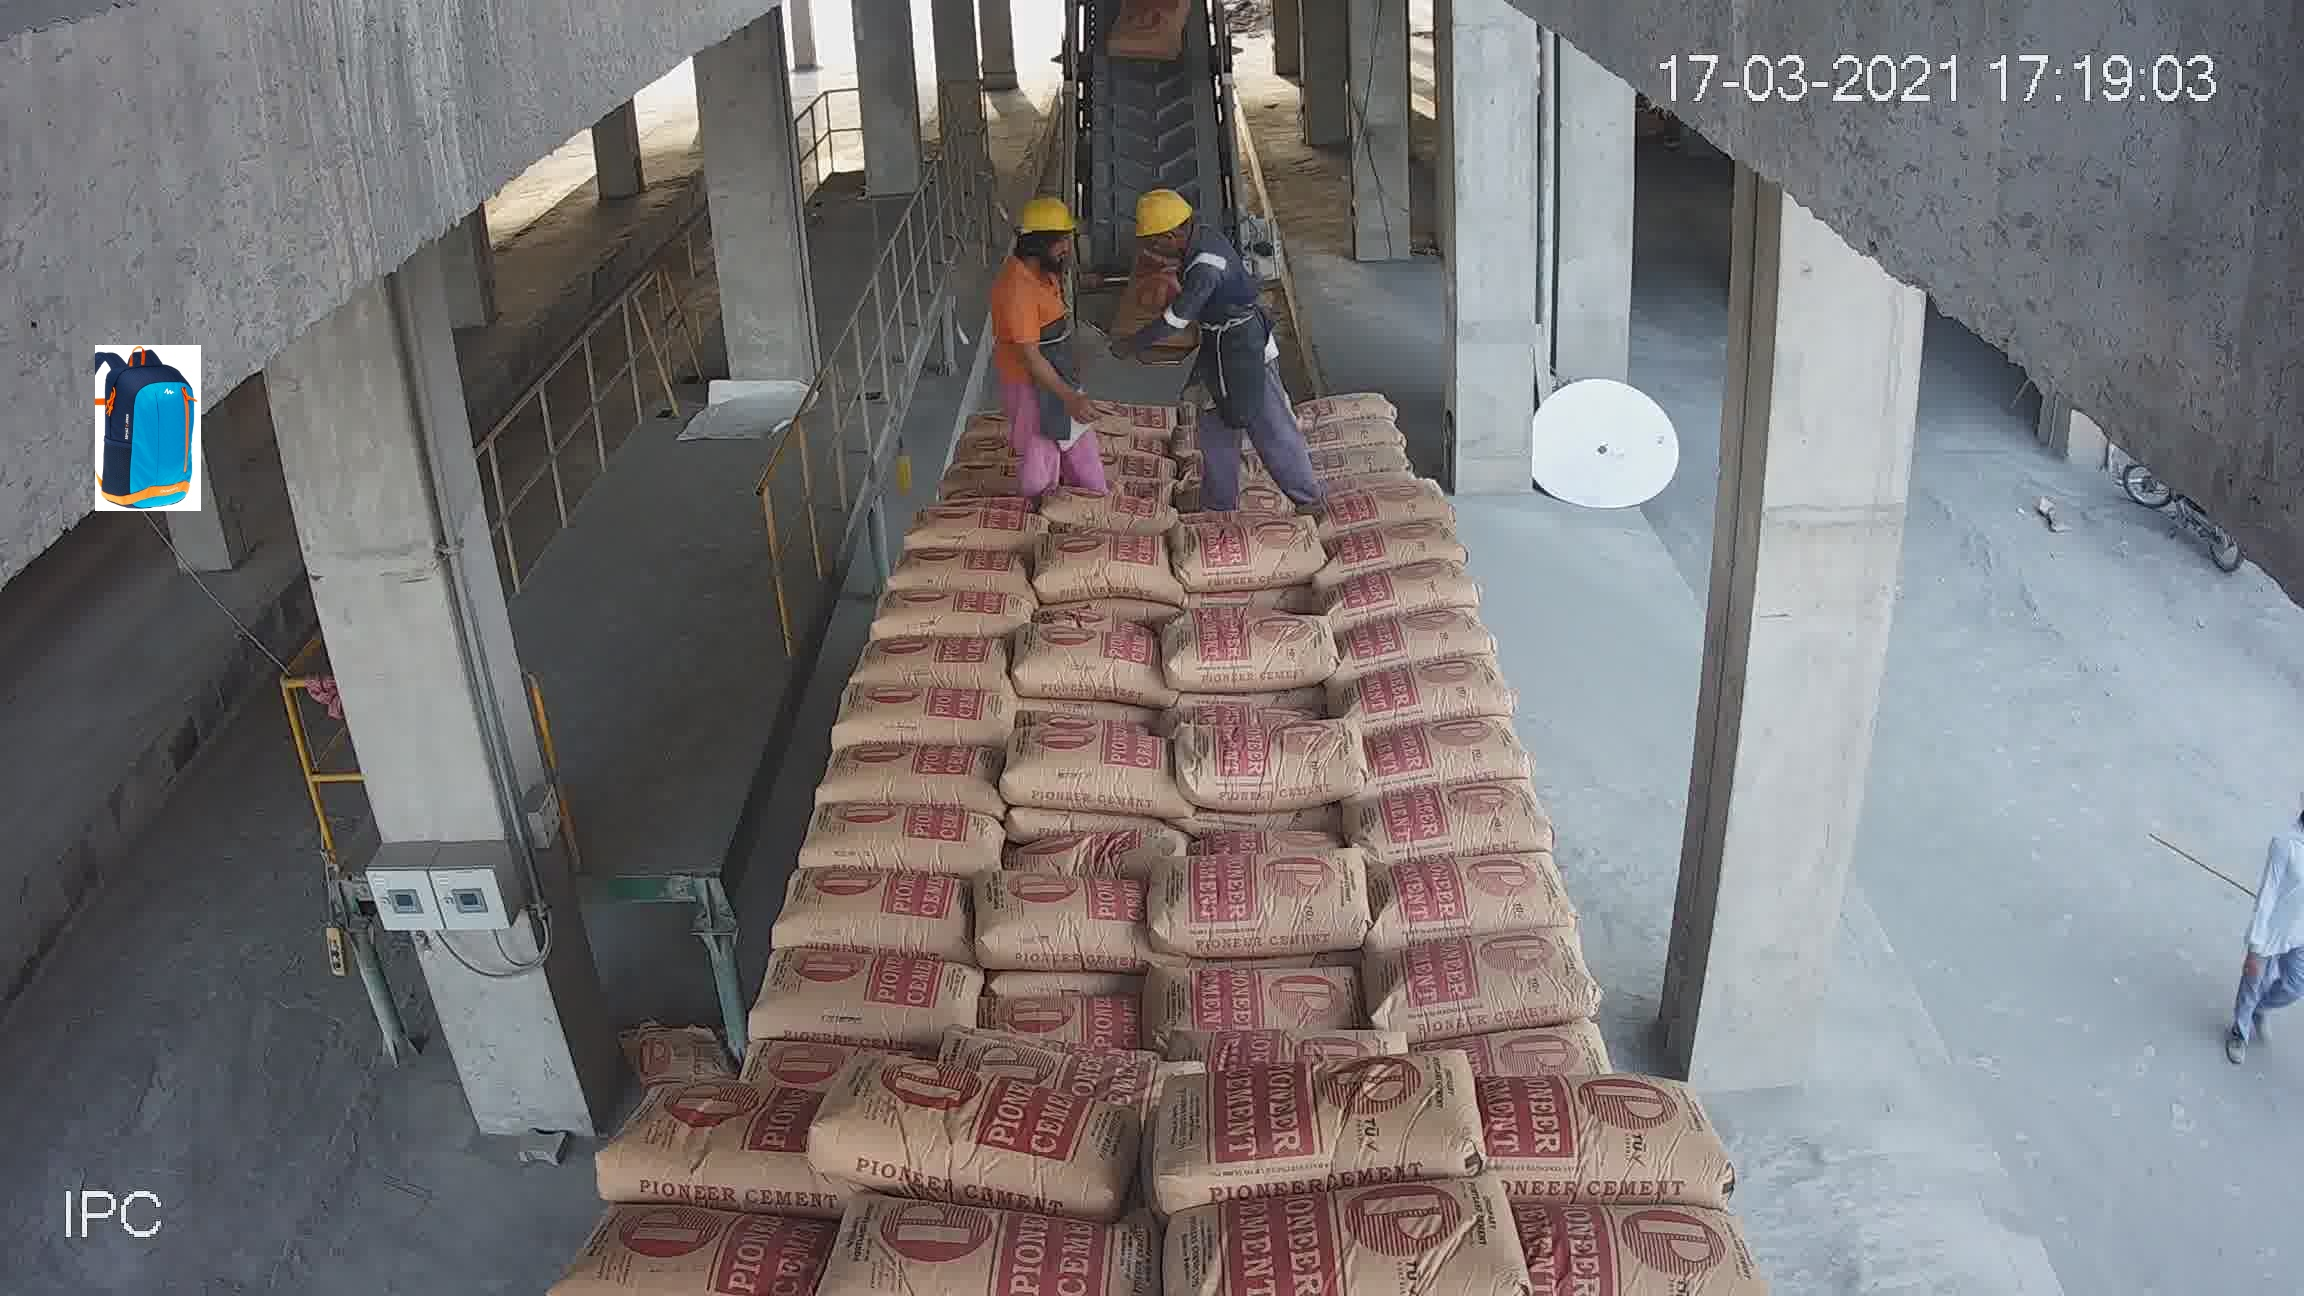bag: (1112, 8, 1188, 66)
bag_h: (1136, 1051, 1478, 1192), (843, 1059, 1138, 1212), (1449, 1067, 1722, 1203), (1146, 1169, 1527, 1264), (1147, 824, 1385, 943), (834, 1204, 1152, 1290), (609, 1071, 828, 1192), (1369, 927, 1603, 1038), (1336, 842, 1567, 948), (741, 951, 991, 1048), (1166, 699, 1375, 801), (946, 1030, 1201, 1108), (1556, 1198, 1761, 1293), (576, 1211, 821, 1282), (766, 869, 965, 954), (1340, 782, 1551, 859), (989, 731, 1177, 815), (1187, 1010, 1416, 1078), (794, 737, 1006, 809), (847, 571, 1040, 649), (1163, 608, 1340, 692), (1136, 965, 1377, 1027), (1177, 491, 1323, 592), (1342, 717, 1527, 794), (1332, 652, 1513, 731), (999, 859, 1139, 961), (786, 812, 1005, 877), (1465, 1006, 1635, 1084), (1342, 601, 1500, 680), (1315, 495, 1470, 571), (1320, 560, 1478, 635), (1035, 525, 1174, 609), (1010, 611, 1152, 690), (834, 687, 1022, 745), (850, 623, 1010, 690), (1014, 820, 1179, 878), (1313, 462, 1446, 530), (881, 532, 1032, 590), (1017, 486, 1180, 540), (987, 983, 1146, 1035), (905, 502, 1049, 552), (1079, 429, 1176, 489), (1288, 381, 1396, 432), (1302, 415, 1407, 465), (1304, 446, 1427, 484), (1081, 400, 1184, 437)
bag_v: (1130, 248, 1180, 343)
belt: (1055, 8, 1245, 328)
